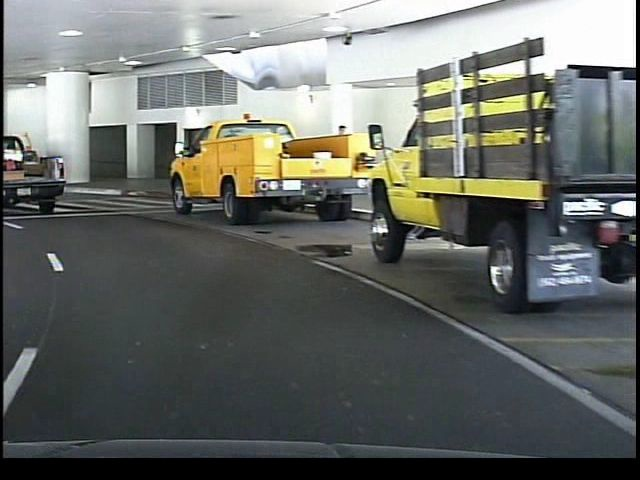person: (327, 119, 353, 201)
